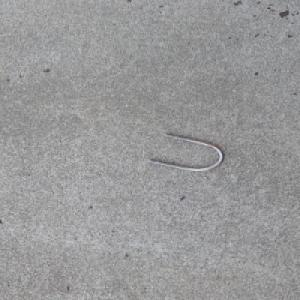ClampPart: (146, 133, 225, 171)
